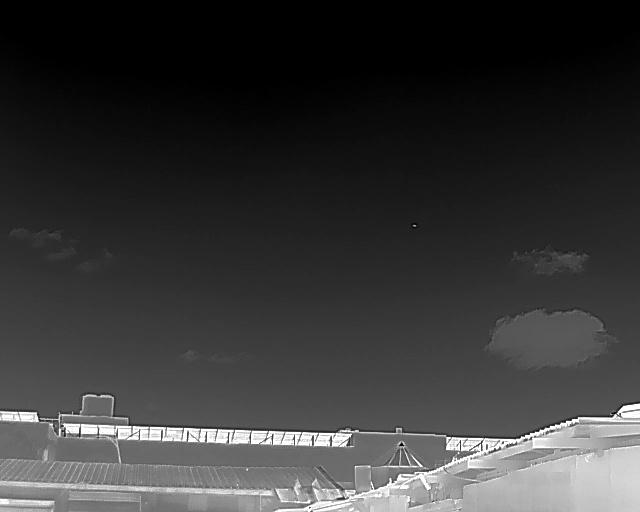fpv-drone: (411, 223, 417, 228)
